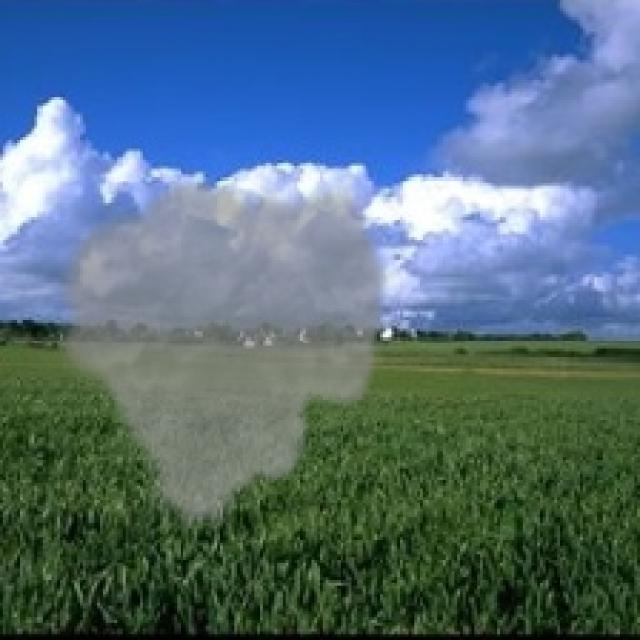Smoke: (48, 174, 394, 537)
